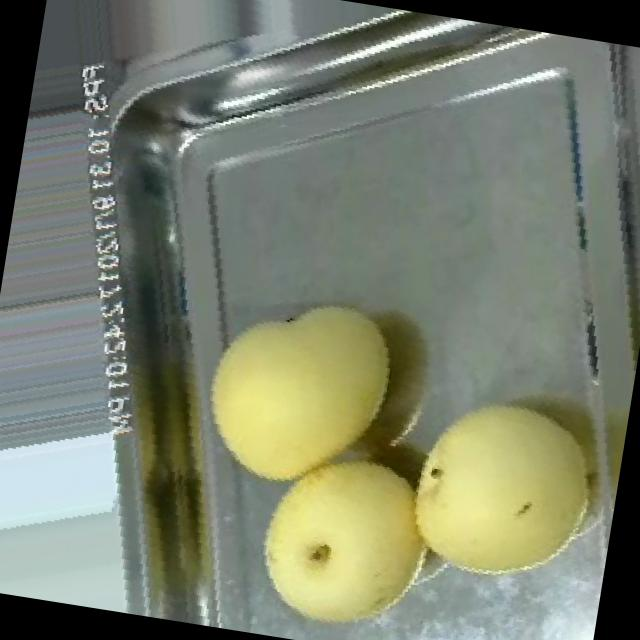Fruit: (165, 255, 432, 528), (364, 353, 632, 613), (223, 409, 463, 640)
